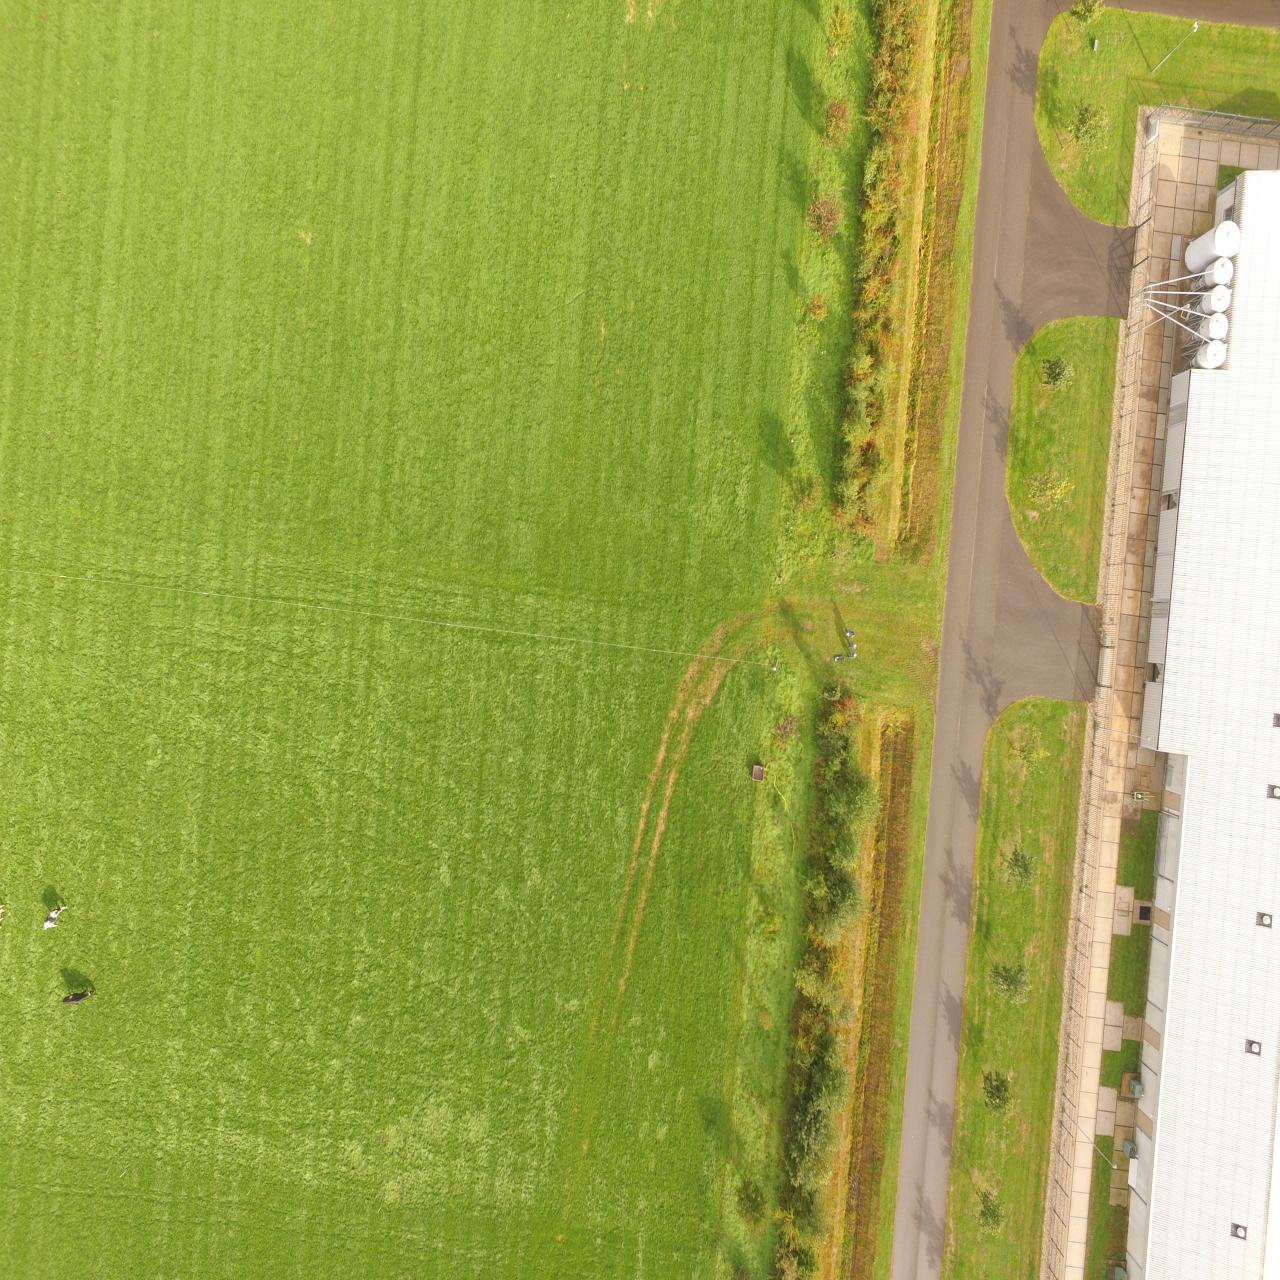cow: (42, 905, 67, 931), (63, 987, 94, 1003)
